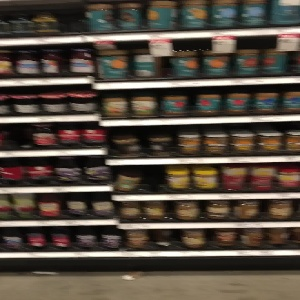void: (1, 123, 31, 154), (61, 1, 86, 37), (139, 164, 168, 195)
